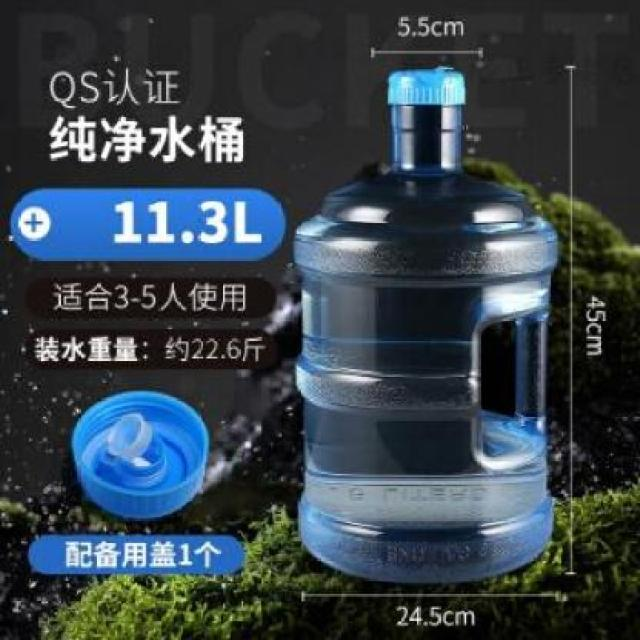coolerbottle: (294, 57, 564, 588)
